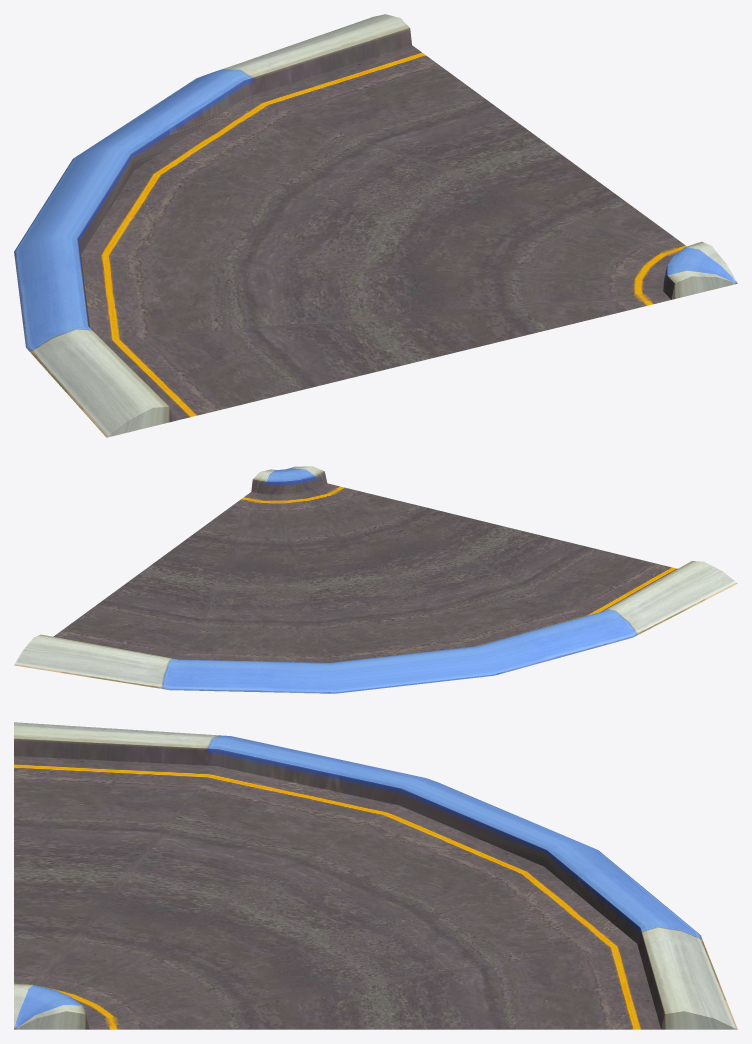
Rendered from RoadCorner.FBX.
The picture shows the model from 3 angles, top to bottom: view 1: azimuth 30°, elevation 25°; view 2: azimuth 150°, elevation 25°; view 3: azimuth 270°, elevation 25°; orthographic projection. The views are drawn at different scales.
Parts seen in each view (by area): view 1: RoadCorner; view 2: RoadCorner; view 3: RoadCorner.
Boxes of the visible parts, <box> form: RoadCorner: <box>14,14,737,437</box>; RoadCorner: <box>14,466,737,693</box>; RoadCorner: <box>14,722,737,1029</box>.
Size of the model in its own units: 1000 by 28.17 by 1000.
Materials: 1 (1 with a texture image).
